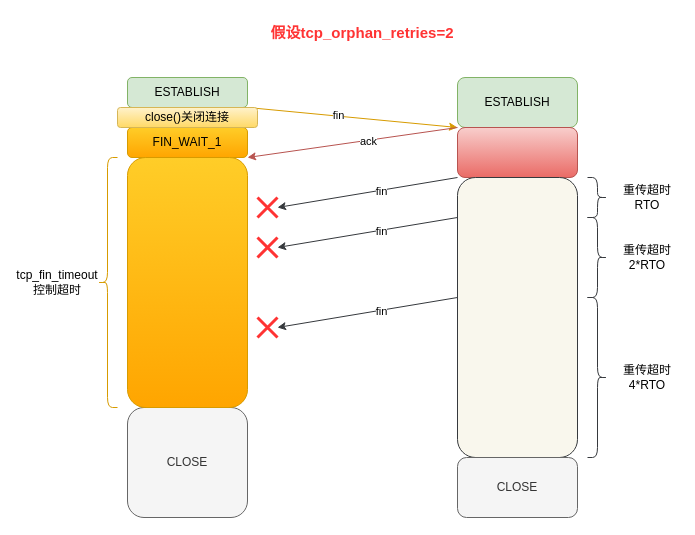
Some shapes in this 695 by 535 pixel diagram are drawn without their labels. The box of each missing label's shape, as (x1, y1, x2, y2) in pixels:
CLOSE_WAIT: (456, 126, 578, 178)
FIN_WAIT_2: (126, 156, 248, 408)
LAST_ACK: (456, 176, 578, 458)
